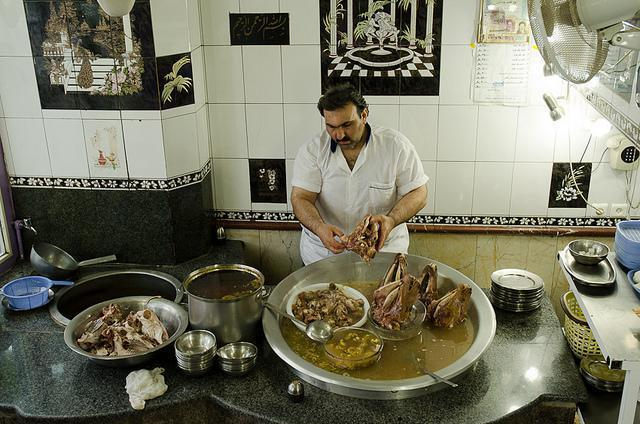Lavaplatos: (15, 217, 196, 356)
